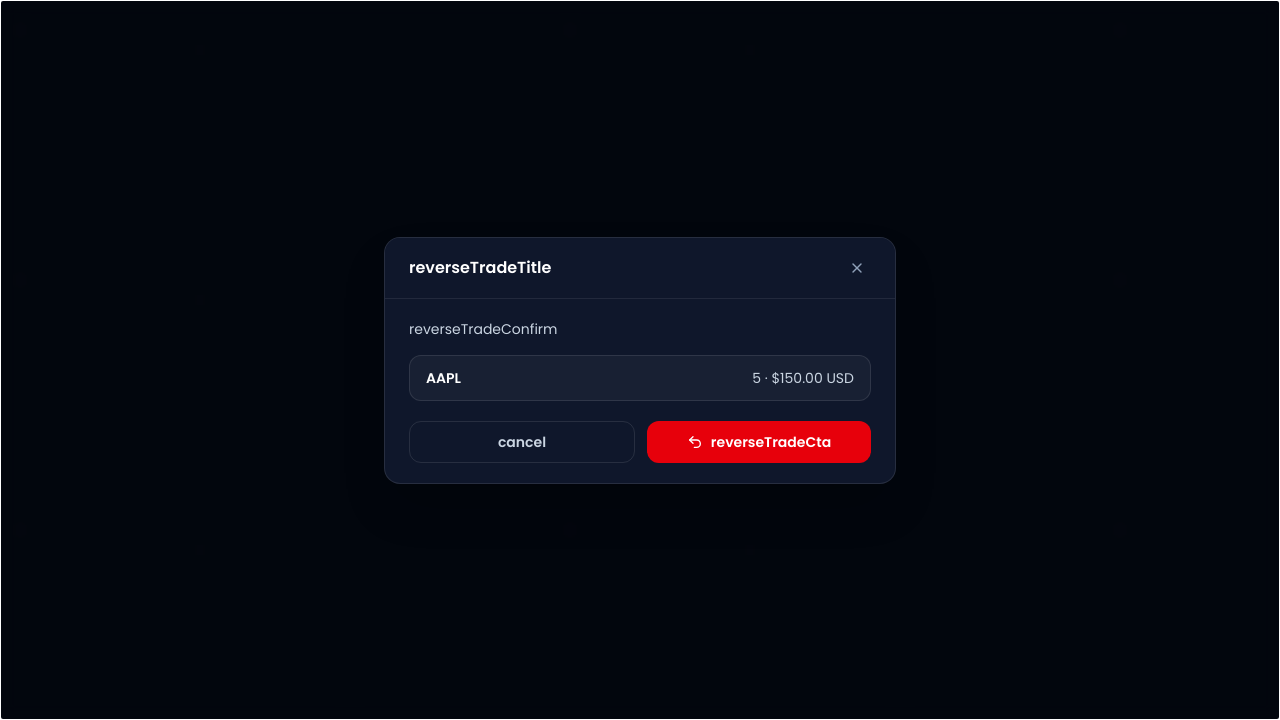
ReverseInvestmentTradeDialog › should show a specific error when the reverse fails
This screenshot has width=1280, height=720.
Step 1. Click the button "reverseTradeCta" → (759, 442), box x1=647 y1=420 x2=871 y2=462
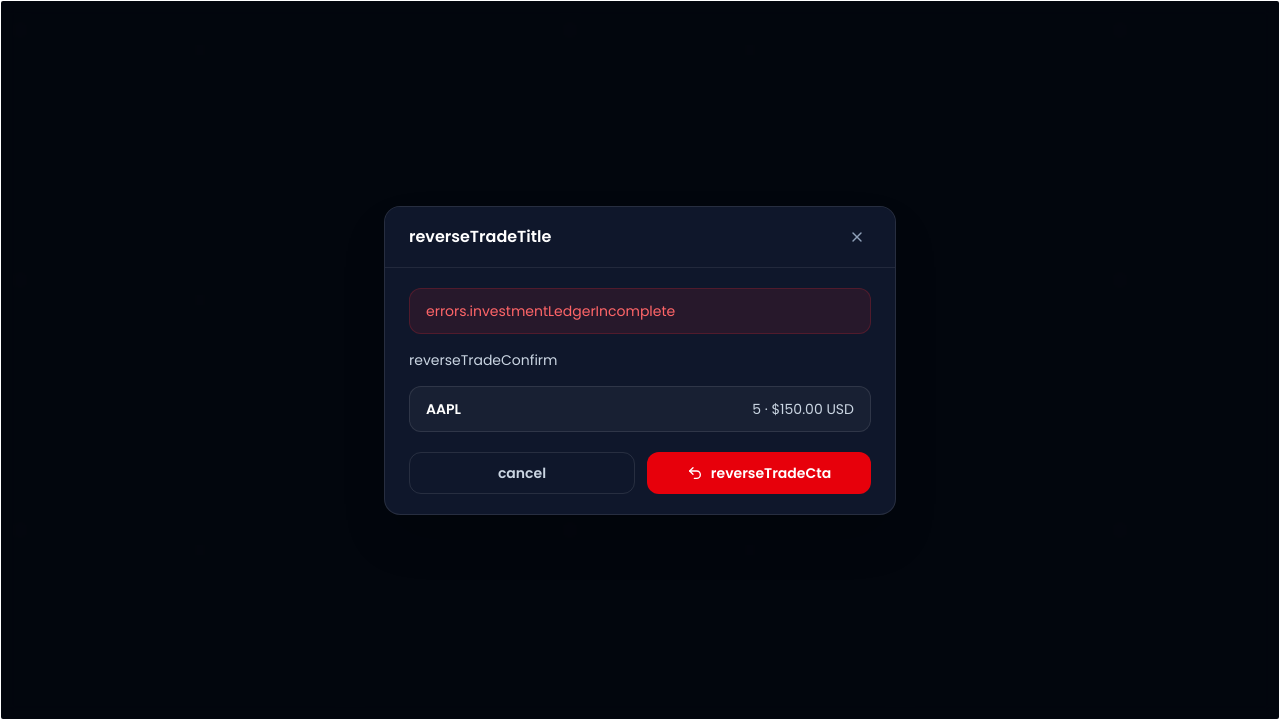
Expected: the text "errors.investmentLedgerIncomplete" is shown, x1=409 y1=288 x2=871 y2=334
